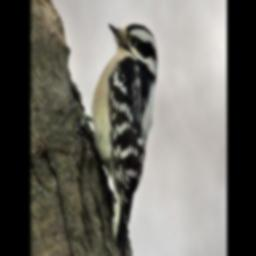Woodpecker: (69, 17, 160, 256)
